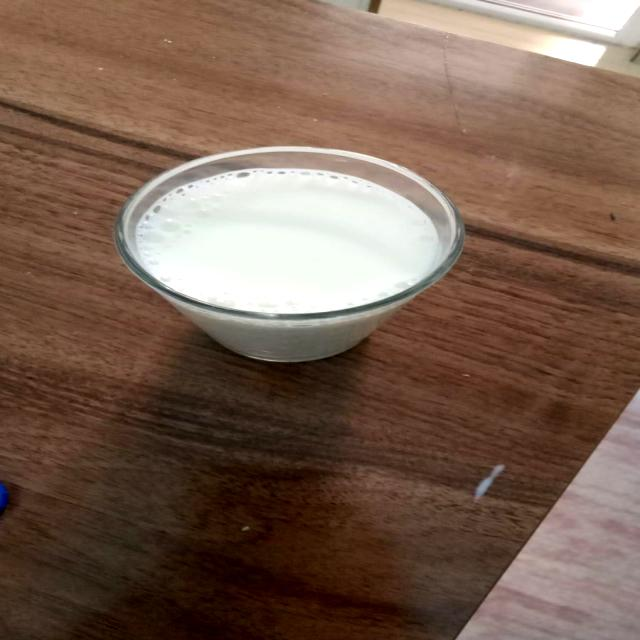milk: (98, 135, 480, 378)
